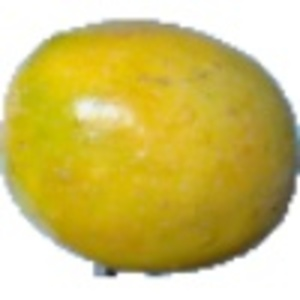maracujá: (1, 17, 300, 280)
